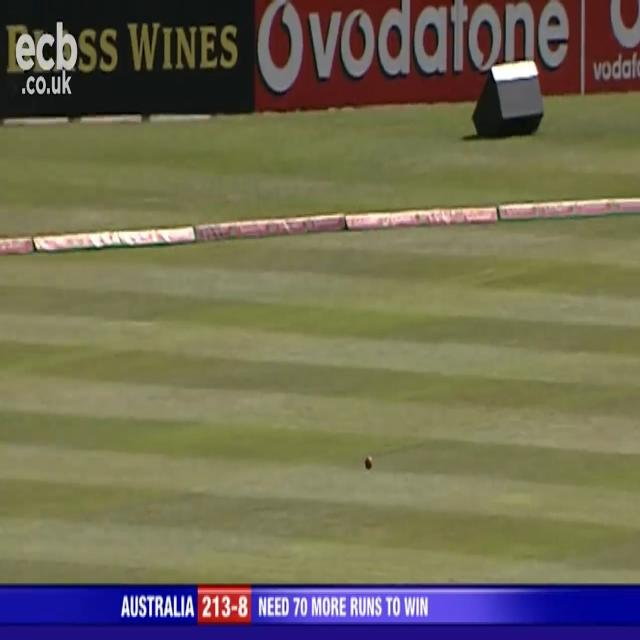ball: (362, 452, 374, 472)
